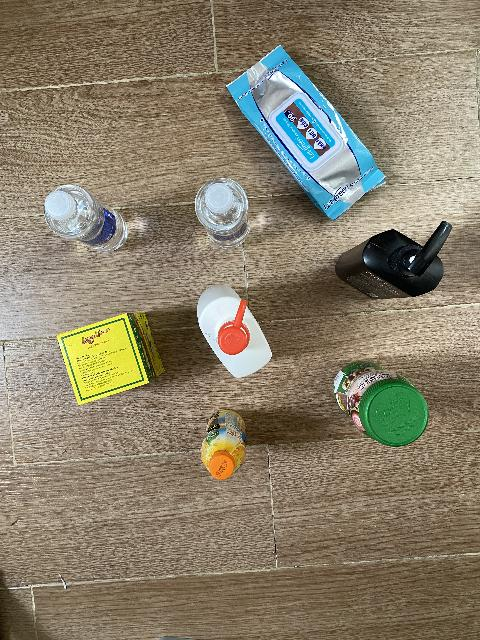Let-green_alcohol_wipes: (227, 46, 387, 221)
X-men: (335, 221, 453, 300)
aquafina: (43, 185, 127, 251), (194, 178, 250, 249)
life-buoy: (196, 285, 272, 379)
luong_kho: (56, 312, 164, 406)
milo: (333, 361, 429, 447)
teppy_orange_juice: (200, 410, 246, 480)
